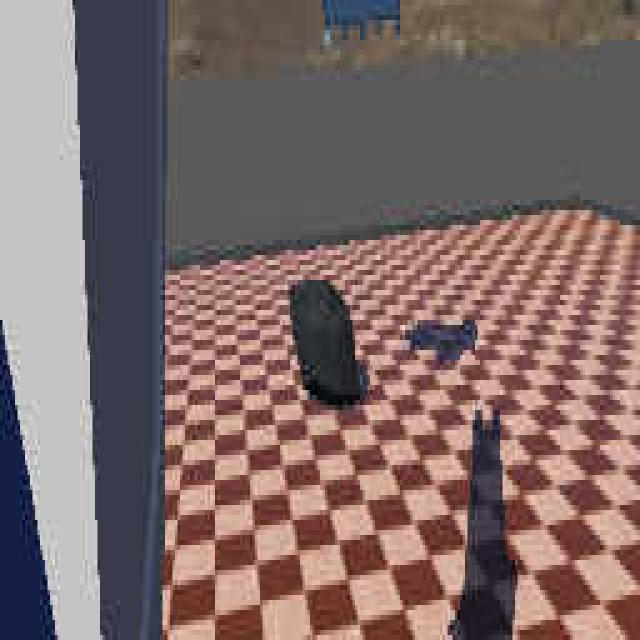rock: (288, 274, 363, 410)
